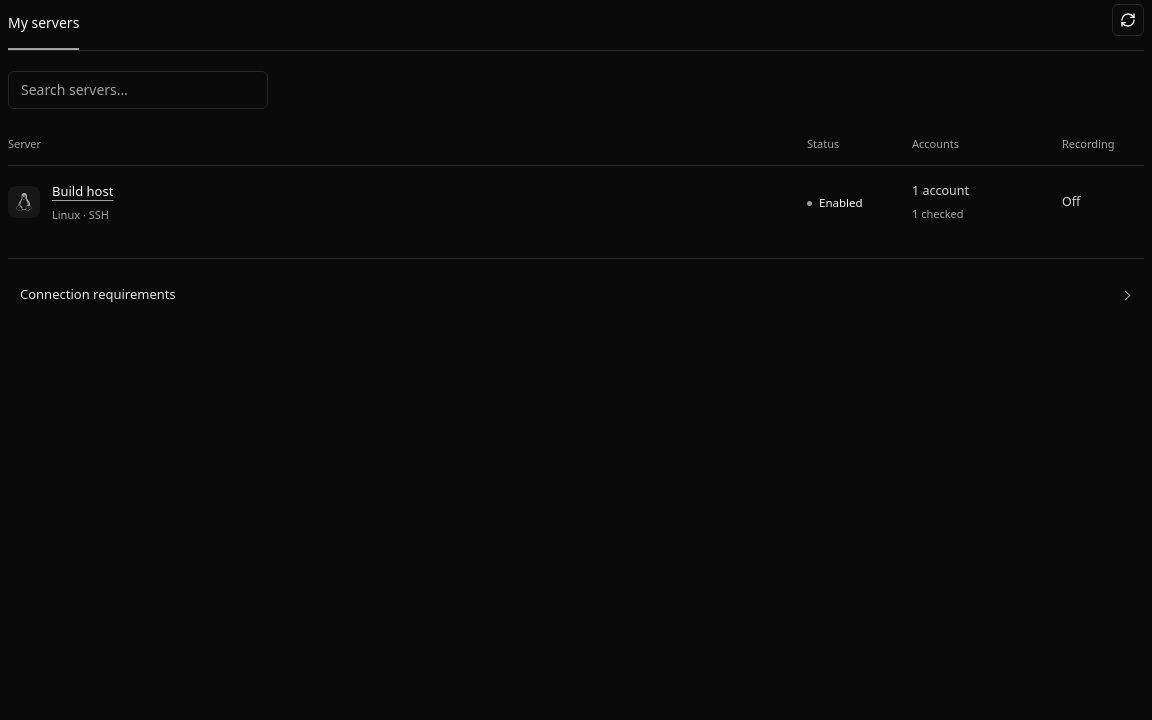
Scenario: a failed End request keeps the live terminal visible without claiming termination
What coordinates should you click on to do the following:
click the button "Build host"
I would click on:
 (83, 191)
Its box is left=52, top=181, right=113, bottom=201.
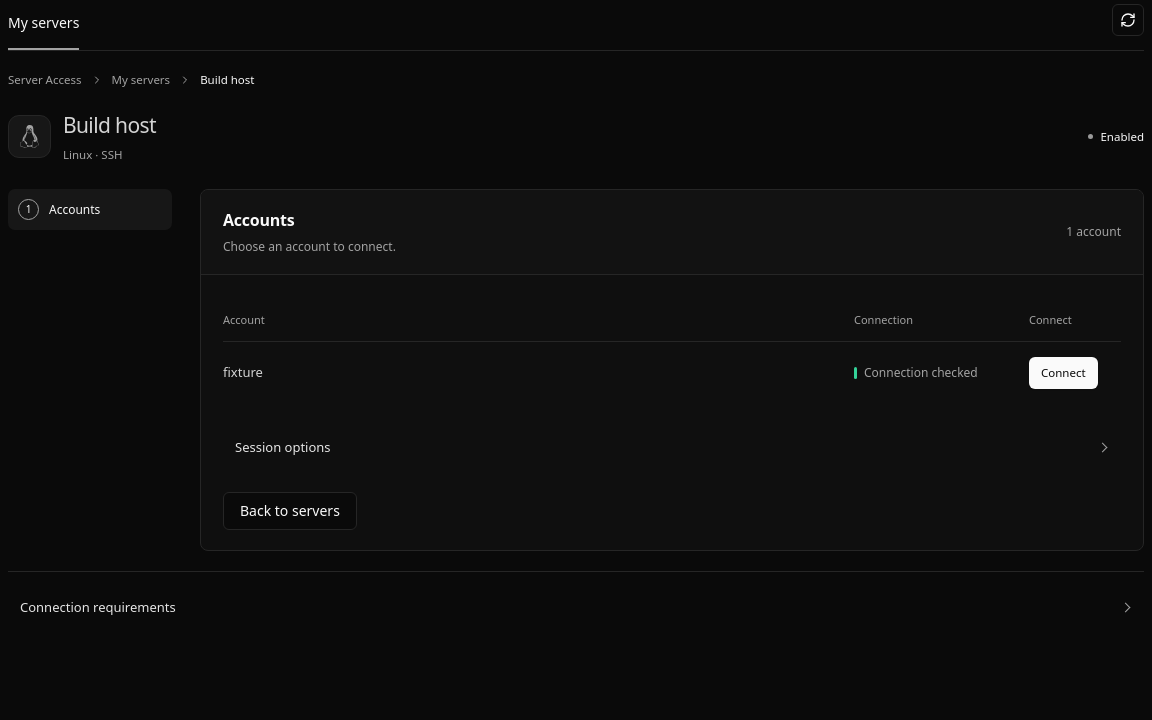
What coordinates should you click on to do the following:
click the button with aria-label "Connect as fixture"
I would click on:
 (1063, 373)
Its box is left=1029, top=357, right=1098, bottom=389.
(page scrolled)
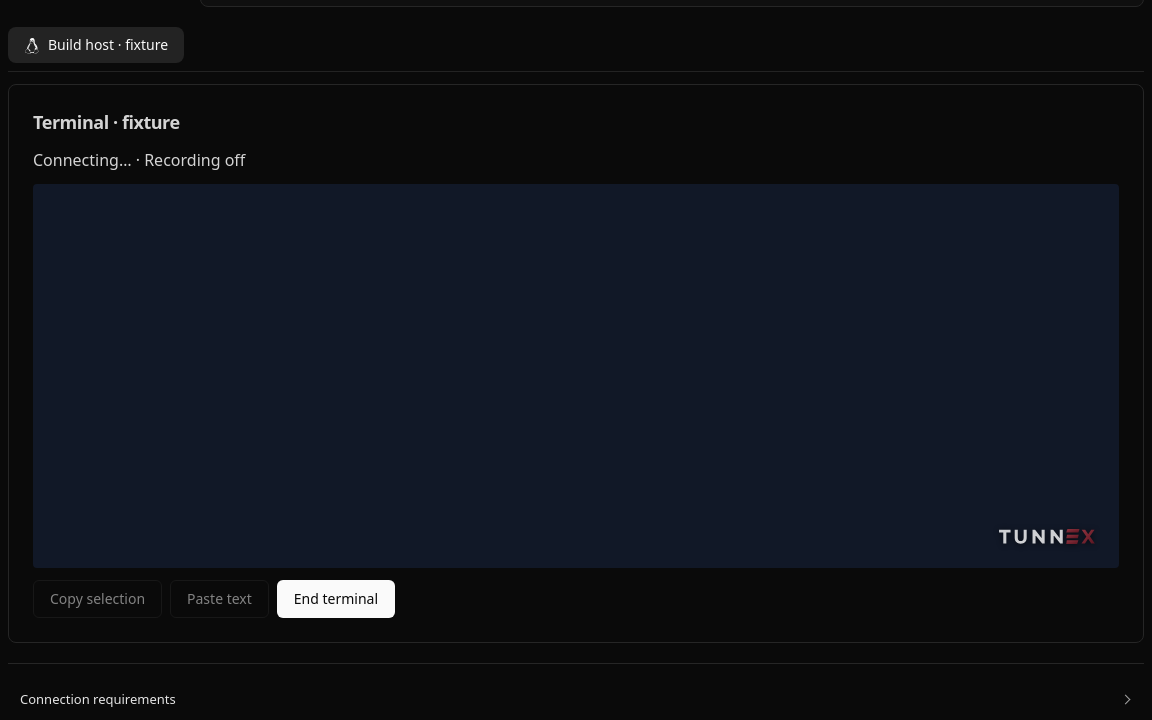
Expected: the element named "SSH terminal for fixture" is shown, left=33, top=184, right=1119, bottom=568
What coordinates should you click on to do the following:
click the button "End terminal"
I would click on:
 (336, 599)
Its box is left=277, top=580, right=395, bottom=618.
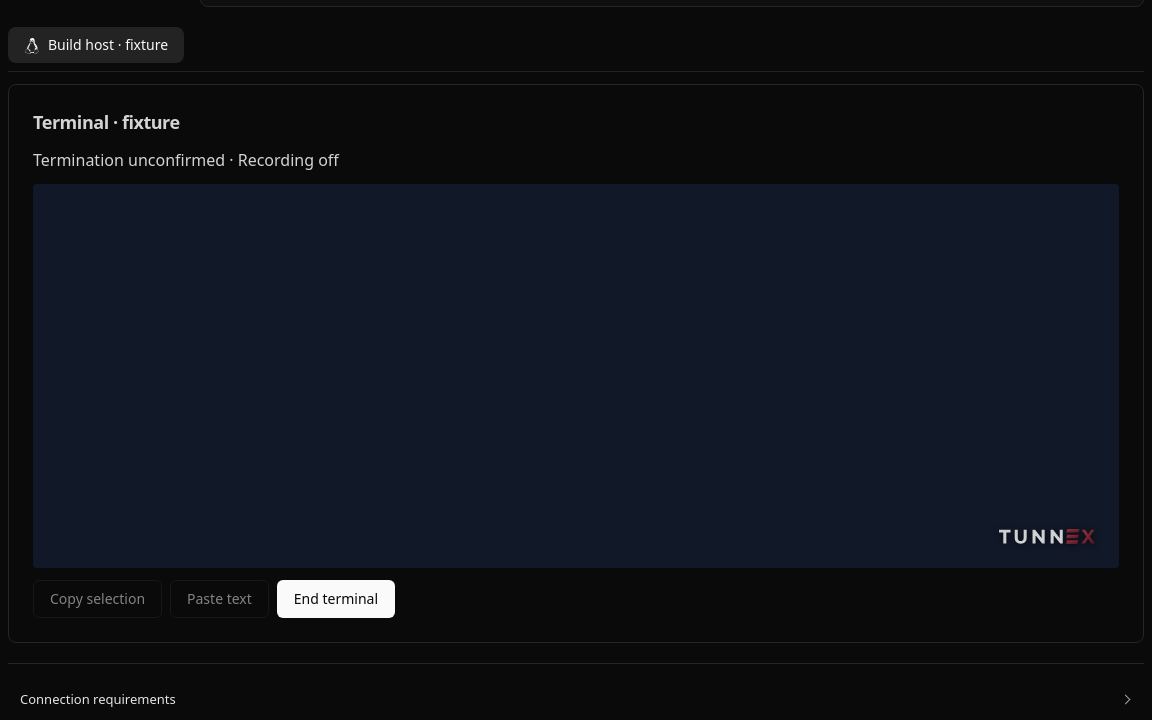
Expected: the element named "SSH terminal for fixture" is shown, left=33, top=184, right=1119, bottom=568
Expected: the text "Termination unconfirmed · Recording off" is shown, left=33, top=149, right=339, bottom=171
